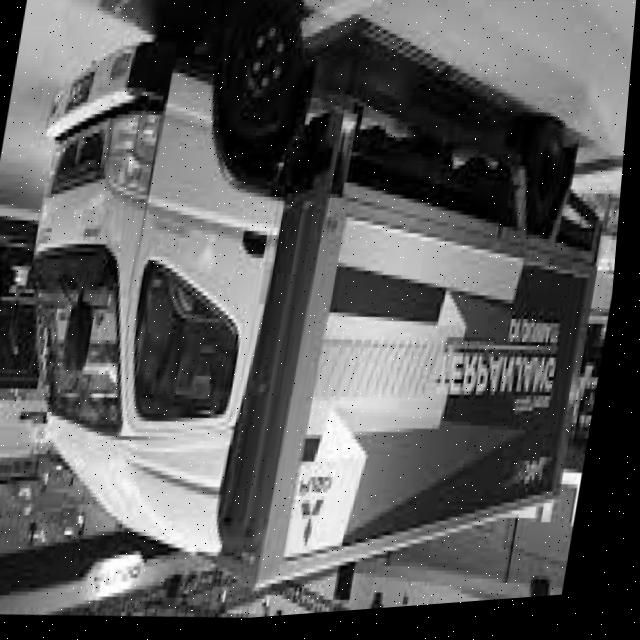truck: (1, 1, 367, 601)
